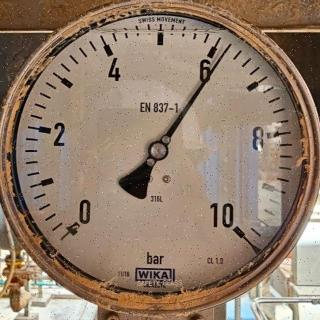gauge: (0, 0, 320, 320), (204, 200, 258, 253), (52, 196, 98, 247), (146, 139, 168, 161), (225, 42, 231, 54)
